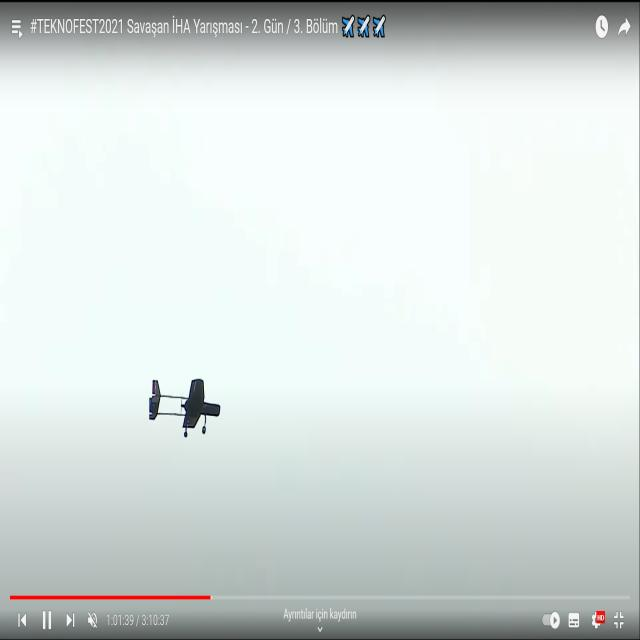iha: (183, 376, 186, 440)
